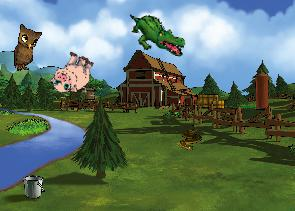crocodile: (124, 12, 189, 57)
owl: (14, 24, 42, 71)
pig: (47, 47, 98, 100)
